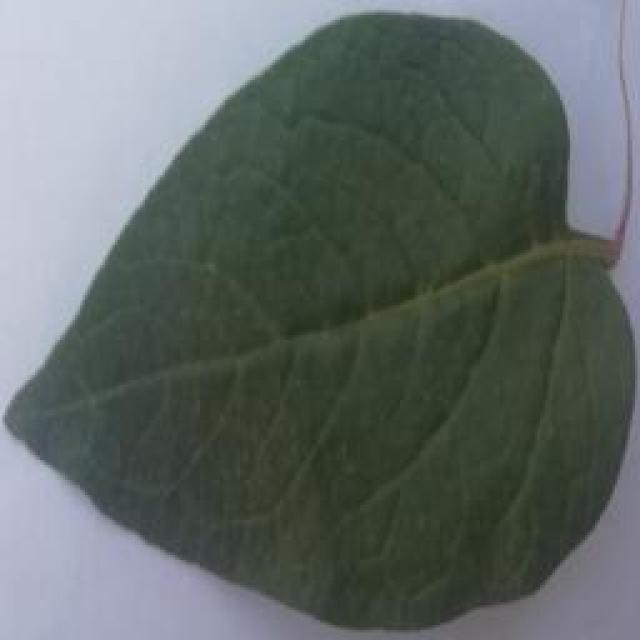Potato_Healthy: (3, 14, 624, 628)
